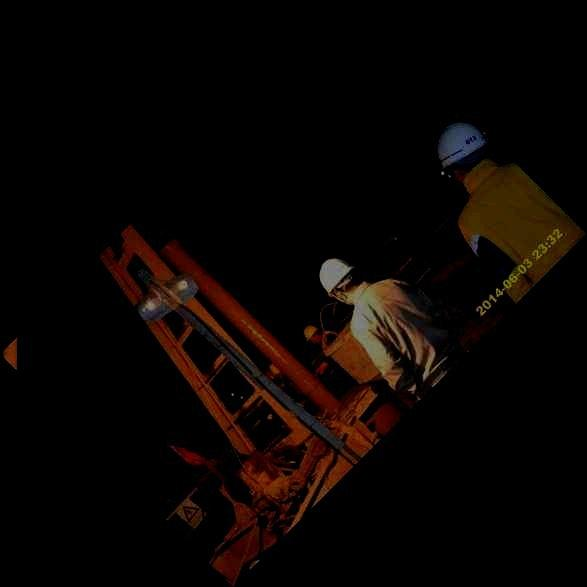helmet: (437, 122, 486, 180), (319, 258, 359, 302)
